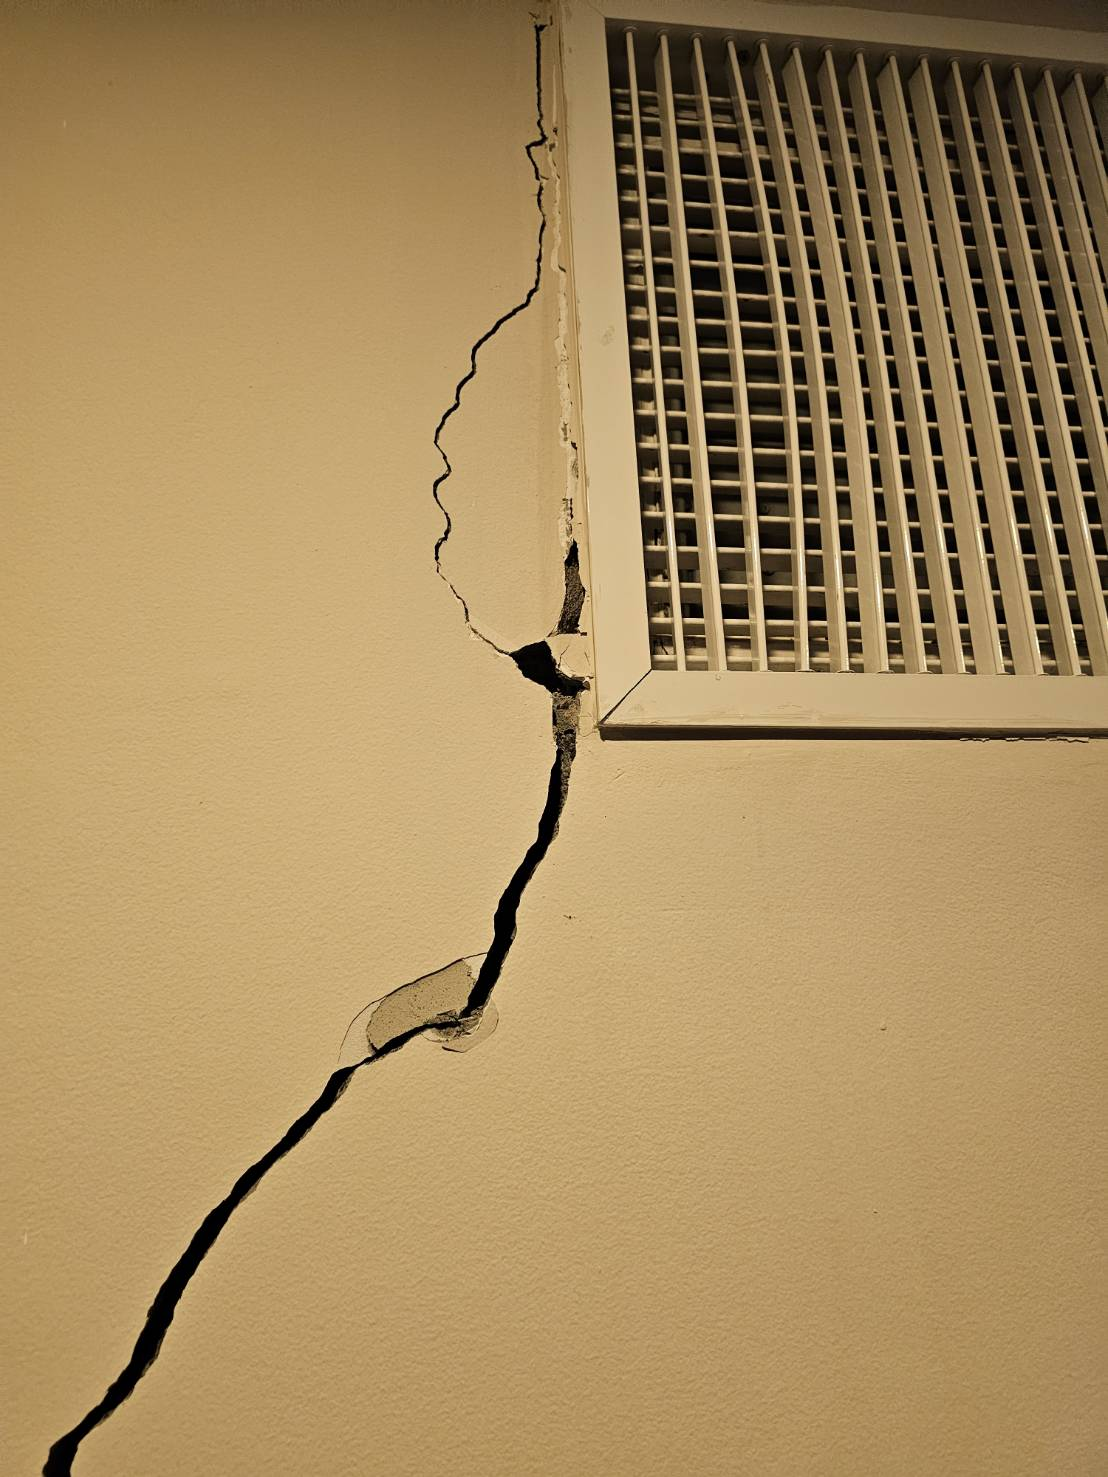Medium: (14, 611, 594, 1446)
